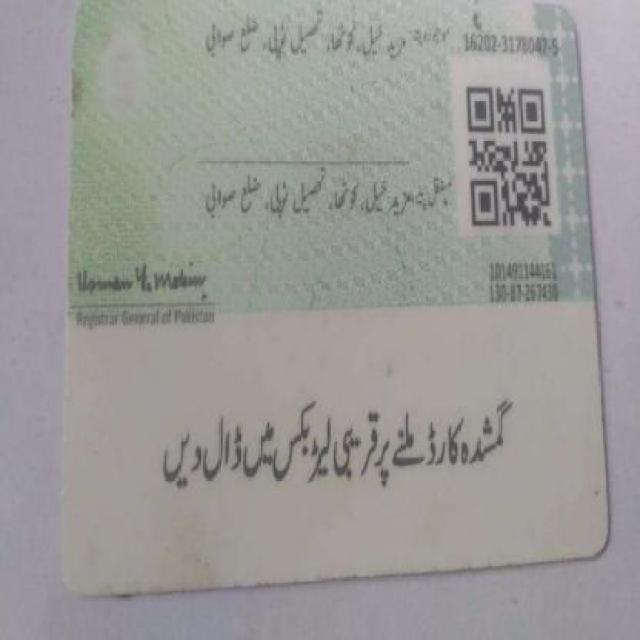Back: (68, 6, 609, 560)
